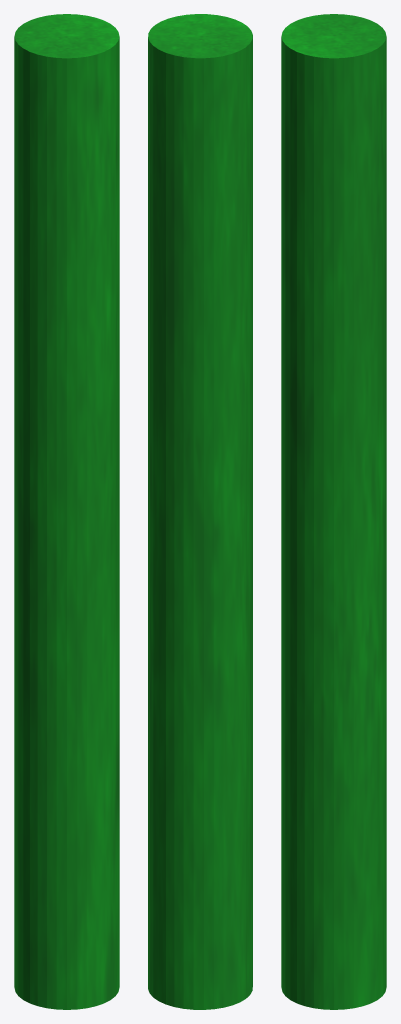
Rendered from SwingingBridgeChain.obj.
3 renders of one model, left to right at view 1: azimuth 90°, elevation 25°; view 2: azimuth 150°, elevation 25°; view 3: azimuth 270°, elevation 25°, orthographic.
Visible parts, largest first — view 1: SwingingBridgeChain; view 2: SwingingBridgeChain; view 3: SwingingBridgeChain.
Part boxes in pixels (x1,y1,x2,y2): SwingingBridgeChain: (14, 14, 119, 1009); SwingingBridgeChain: (148, 14, 252, 1009); SwingingBridgeChain: (281, 14, 386, 1009).
Bounding box in the file's own units: 0.1 × 1 × 0.1.
1 material, 1 textured.
